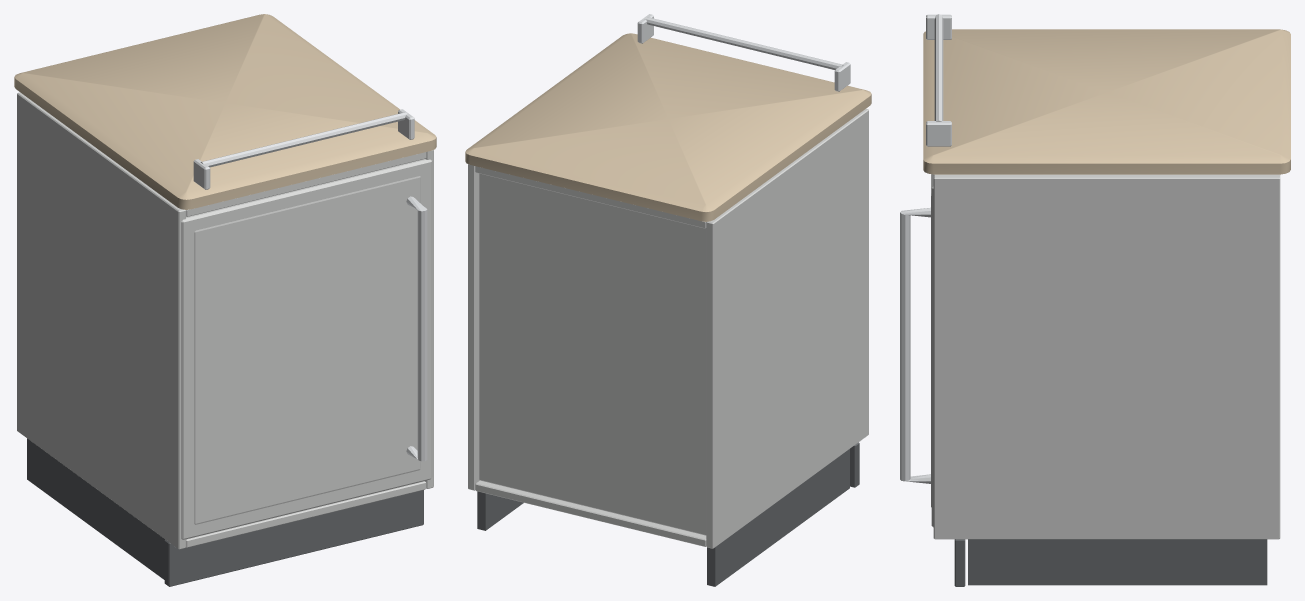
File: clinic-and-veterinary-practice-dispensing-counter-modu-c70fd044__16777.glb
3 renders of one model, left to right at view 1: azimuth 30°, elevation 25°; view 2: azimuth 150°, elevation 25°; view 3: azimuth 270°, elevation 25°, orthographic. The views are drawn at different scales.
Parts seen in each view (by area): view 1: dispensing-counter-module, door/carcass, door/metal; view 2: dispensing-counter-module; view 3: dispensing-counter-module, door/metal, door/carcass.
Part boxes in pixels (x1,y1,x2,y2): dispensing-counter-module: (14,14,436,586); door/carcass: (181,159,432,539); door/metal: (406,196,427,461); dispensing-counter-module: (465,14,871,586); dispensing-counter-module: (923,14,1290,586); door/metal: (900,207,930,483); door/carcass: (931,174,933,527).
Bounding box in the file's own units: 0.604 × 0.953 × 0.744.
